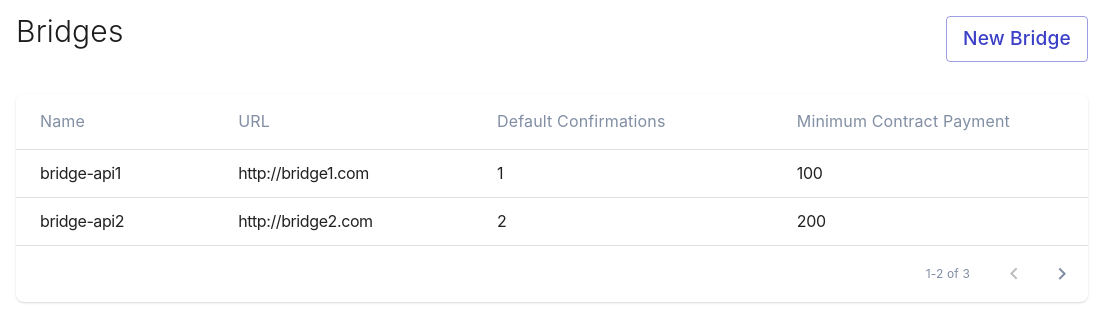
Scenario: BridgesScreen › can page through the list of bridges
Check: the text "bridge-api1" is shown, box [40,162,121,186]
Check: the text "bridge-api2" is shown, box [40,210,124,234]
Click the button named "next-page" at (1062, 274), box [1038,250,1086,298]
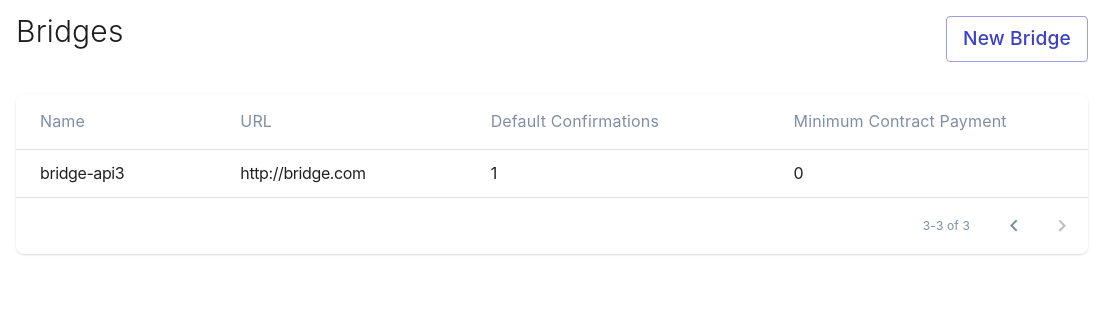
Check: the text "bridge-api3" is shown, box [40,162,124,186]
Check: the text "3-3 of 3" is shown, box [923,216,970,236]
Check: the button named "next-page" is disabled, box [1038,202,1086,250]
Click the button named "prev-page" at (1014, 226), box [990,202,1038,250]
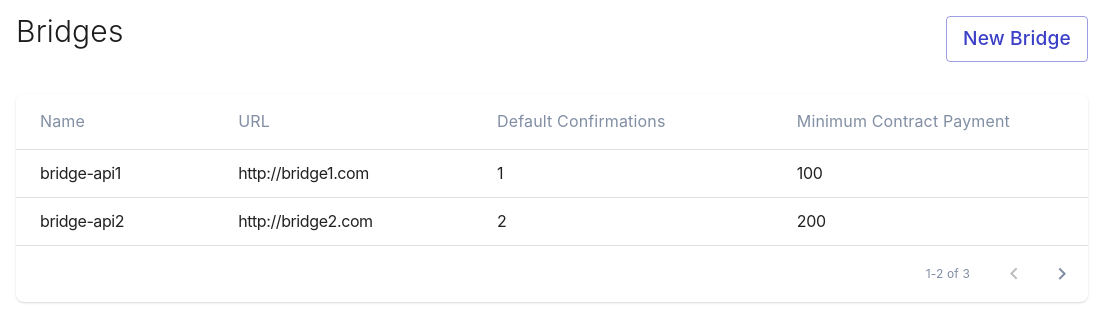
Check: the text "bridge-api1" is shown, box [40,162,121,186]
Check: the text "bridge-api2" is shown, box [40,210,124,234]
Check: the text "1-2 of 3" is shown, box [926,264,970,284]
